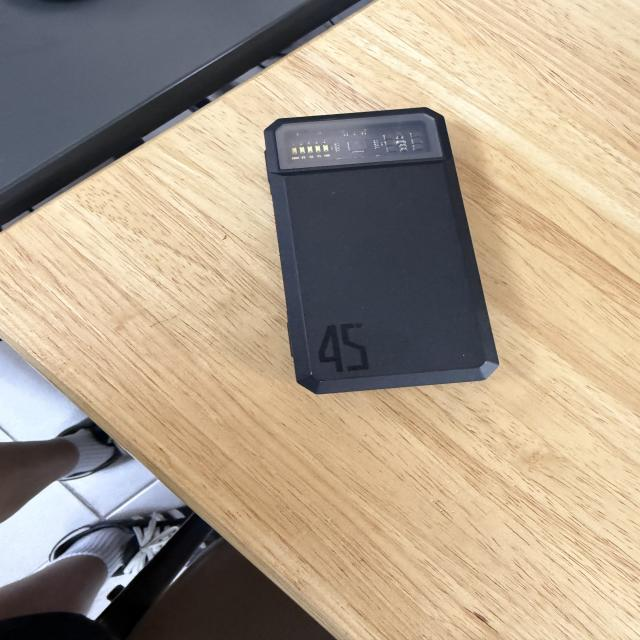power bank: (266, 104, 500, 396)
